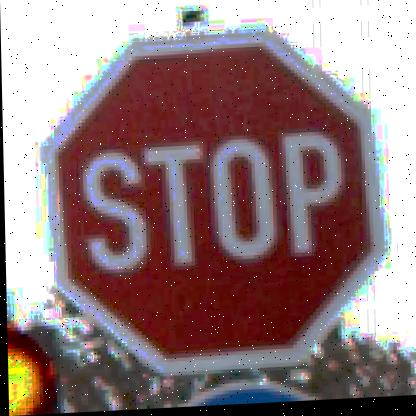Stop Sign: (43, 11, 382, 383)
